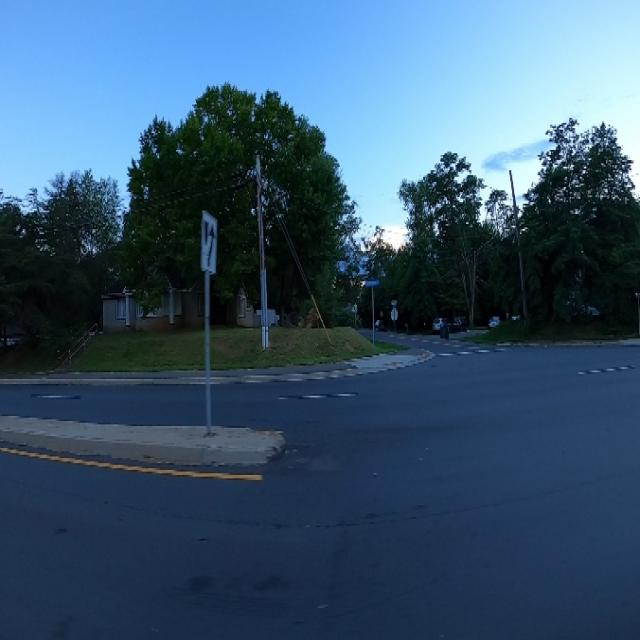cars: (430, 312, 448, 341), (452, 304, 468, 336), (486, 307, 503, 337)
